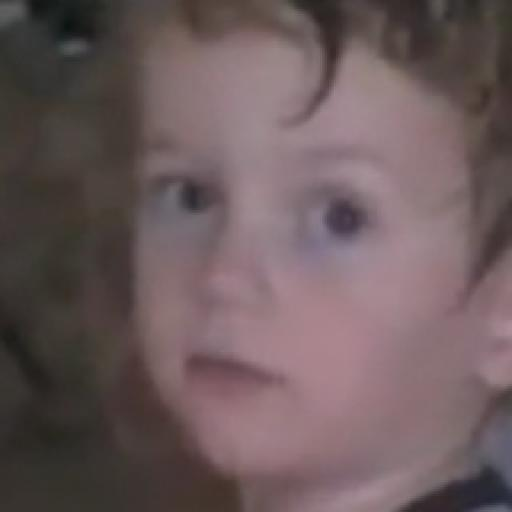Autism: (120, 35, 512, 512)
